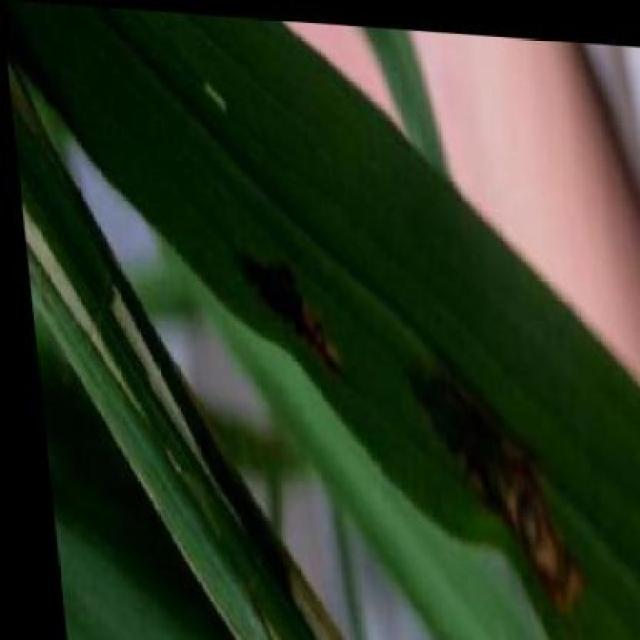Bacterial_Leaf_Blight: (370, 318, 612, 618), (196, 208, 352, 374), (0, 0, 60, 154)
